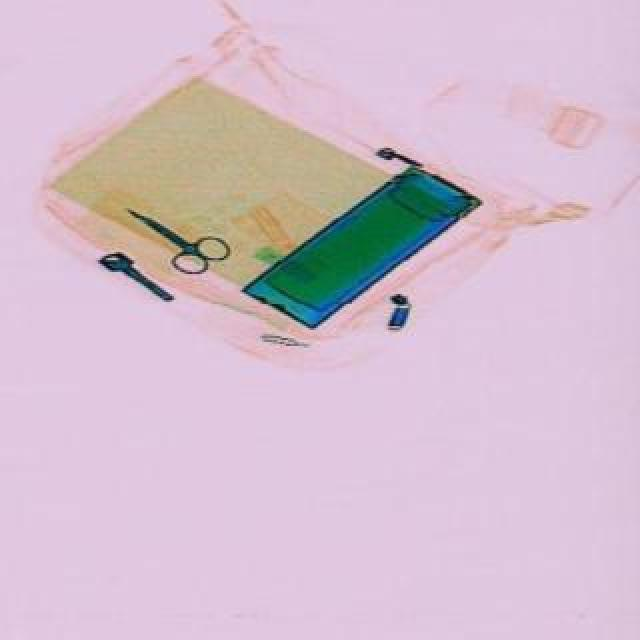pliers: (116, 190, 240, 290)
